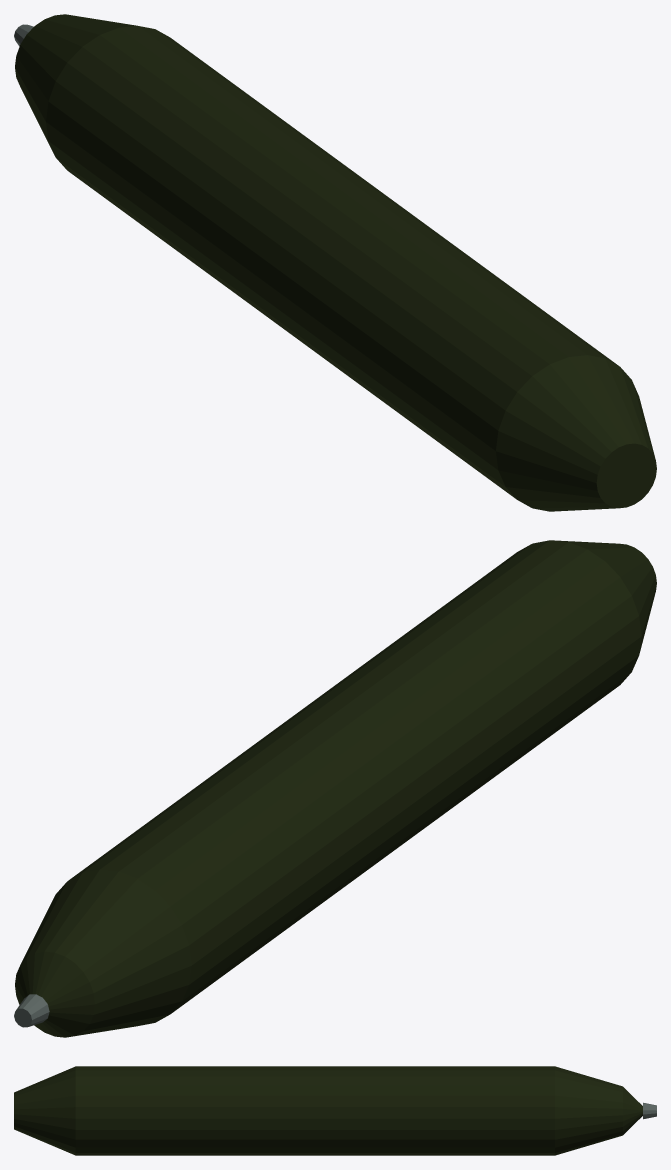
File: BombGlide__Bomb.obj
The picture shows the model from 3 angles, top to bottom: view 1: azimuth 30°, elevation 25°; view 2: azimuth 150°, elevation 25°; view 3: azimuth 270°, elevation 25°; orthographic projection. The views are drawn at different scales.
Parts seen in each view (by area): view 1: Bomb_forged_casing; view 2: Bomb_forged_casing, Nose_fuze_cap; view 3: Bomb_forged_casing, Nose_fuze_cap.
Boxes of the visible parts, <box> form: Bomb_forged_casing: <box>15,14,656,511</box>; Bomb_forged_casing: <box>15,540,656,1037</box>; Nose_fuze_cap: <box>14,994,49,1027</box>; Bomb_forged_casing: <box>14,1066,642,1155</box>; Nose_fuze_cap: <box>643,1102,656,1119</box>.
Size of the model in its own units: 0.29 by 0.29 by 2.08.
